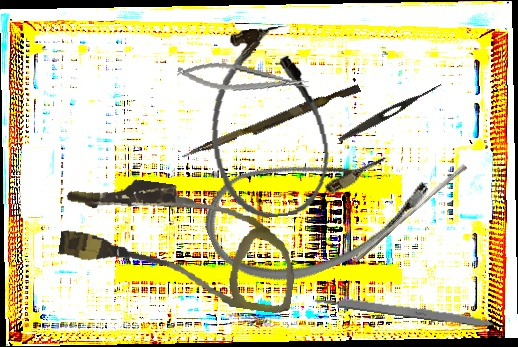Cannula: (191, 109, 442, 307), (54, 170, 305, 315), (200, 22, 337, 223)
Dressing Forceps: (336, 79, 444, 145)
Needle Holder: (175, 55, 311, 103)
Pusher: (181, 79, 361, 166), (353, 160, 468, 267)
Scalpel Handle: (312, 291, 501, 331)
